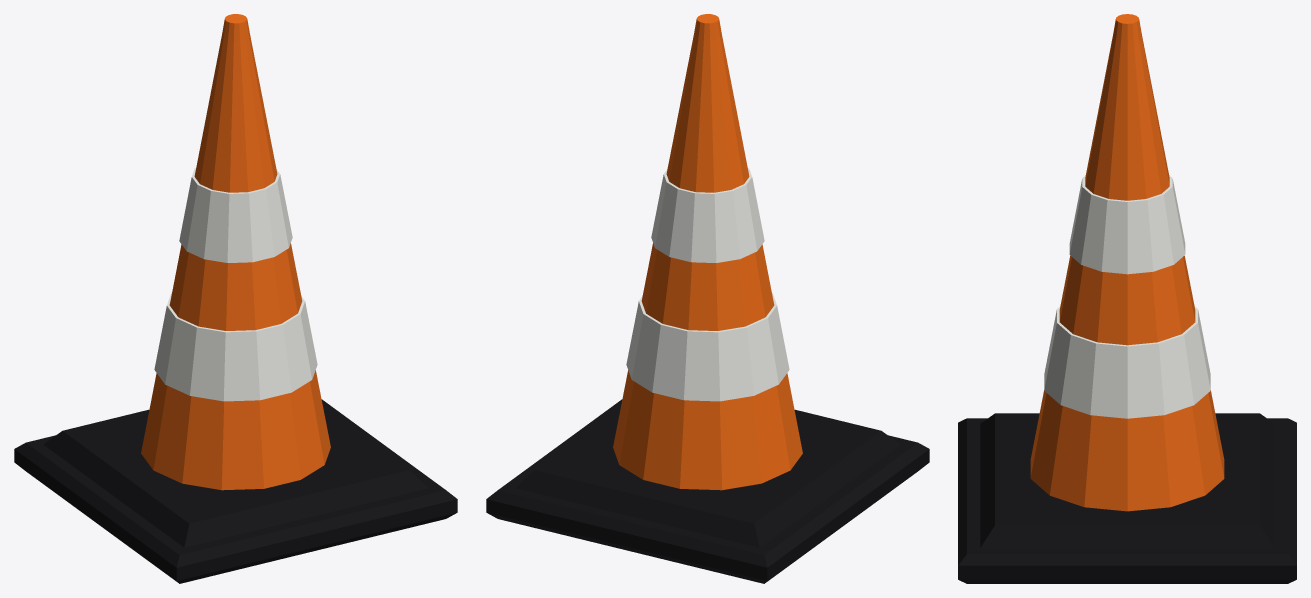
File: PROP_12.obj
3 views of the same model, side by side, from view 1: azimuth 30°, elevation 25°; view 2: azimuth 150°, elevation 25°; view 3: azimuth 270°, elevation 25° (orthographic). The views are drawn at different scales.
Parts seen in each view (by area): view 1: PROP_12__base, PROP_12__body_safety_orange, PROP_12__body_marking_white, PROP_12__tip; view 2: PROP_12__base, PROP_12__body_safety_orange, PROP_12__body_marking_white, PROP_12__tip; view 3: PROP_12__base, PROP_12__body_safety_orange, PROP_12__body_marking_white, PROP_12__tip.
Part boxes in pixels (box(x1,y1,x2,y2)): PROP_12__base: box(14, 399, 457, 583); PROP_12__body_safety_orange: box(141, 35, 330, 490); PROP_12__body_marking_white: box(154, 168, 317, 401); PROP_12__tip: box(222, 14, 249, 40); PROP_12__base: box(486, 399, 929, 583); PROP_12__body_safety_orange: box(613, 35, 802, 490); PROP_12__body_marking_white: box(626, 168, 789, 401); PROP_12__tip: box(694, 14, 721, 40); PROP_12__base: box(958, 413, 1296, 583); PROP_12__body_safety_orange: box(1030, 36, 1224, 511); PROP_12__body_marking_white: box(1044, 175, 1210, 418); PROP_12__tip: box(1113, 14, 1141, 41).
Bounding box in the file's own units: 0.46 × 0.745 × 0.46.
